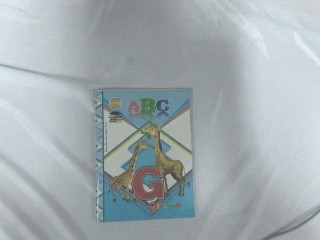book: (78, 87, 197, 221)
